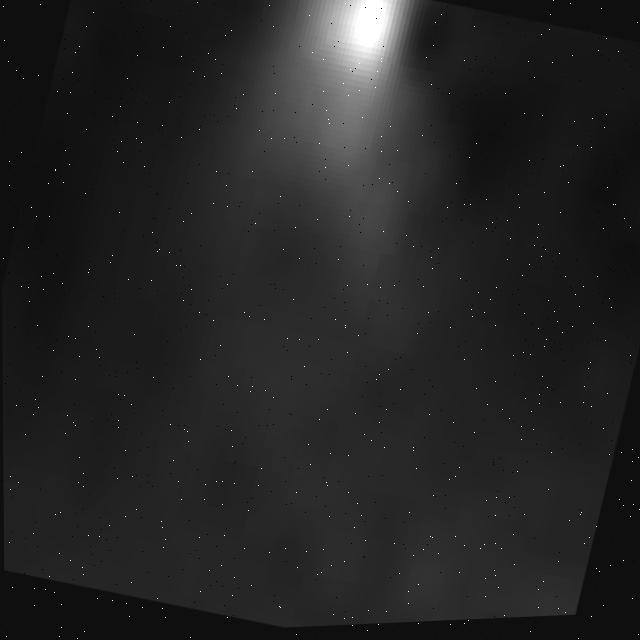person: (228, 1, 472, 297)
